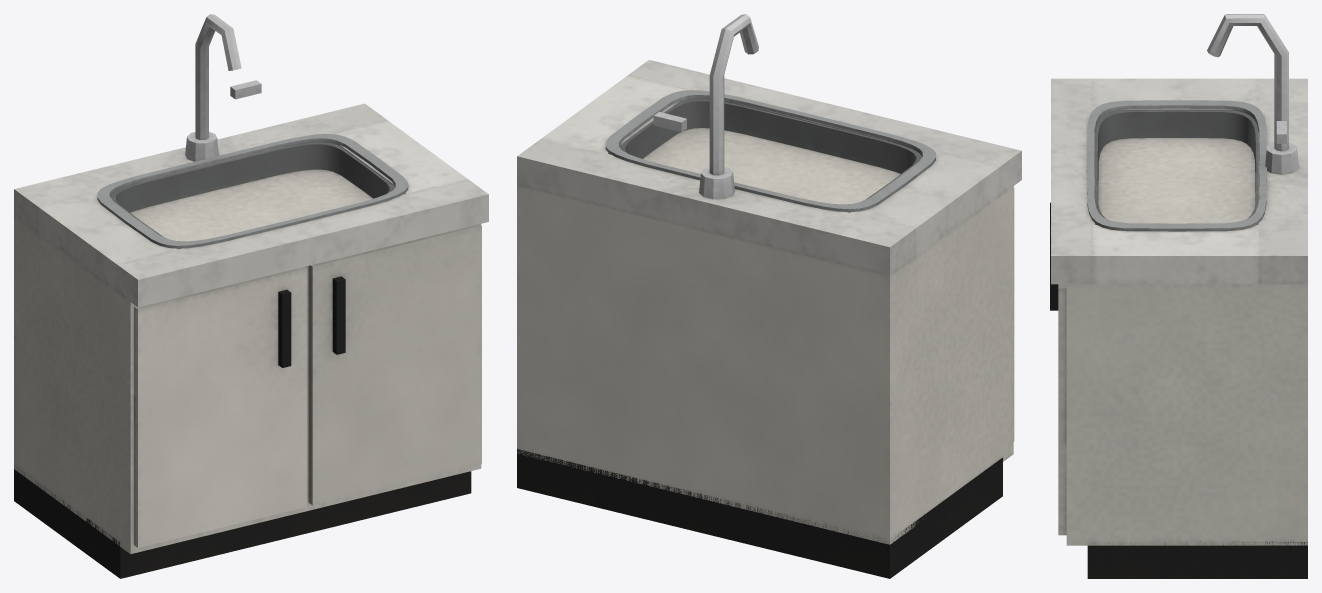
File: H_KitchenSink.fbx
3 renders of one model, left to right at view 1: azimuth 30°, elevation 25°; view 2: azimuth 150°, elevation 25°; view 3: azimuth 270°, elevation 25°, orthographic. The views are drawn at different scales.
Parts seen in each view (by area): view 1: H_KitchenSink; view 2: H_KitchenSink; view 3: H_KitchenSink.
Part boxes in pixels (<box>): H_KitchenSink: <box>14,14,488,578</box>; H_KitchenSink: <box>517,14,1021,578</box>; H_KitchenSink: <box>1050,14,1307,578</box>.
Size of the model in its own units: 400 by 501 by 246.
1 material, 1 textured.
